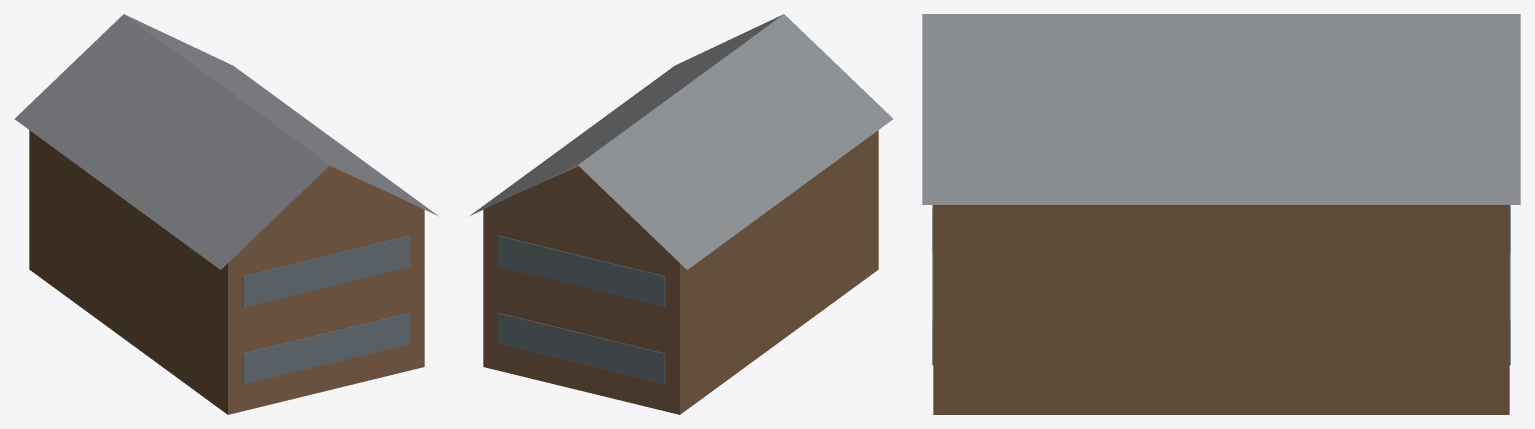
The model's file is boathouse.loc-v1.lod2.glb.
3 renders of one model, left to right at view 1: azimuth 30°, elevation 25°; view 2: azimuth 150°, elevation 25°; view 3: azimuth 270°, elevation 25°, orthographic. The views are drawn at different scales.
Visible parts, largest first — view 1: boathouse; view 2: boathouse; view 3: boathouse.
Part boxes in pixels (x1,y1,x2,y2): boathouse: (14,14,438,414); boathouse: (469,14,893,414); boathouse: (922,14,1520,414).
Bounding box in the file's own units: 8.9 × 8.89 × 14.54.
